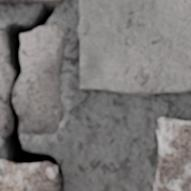brick: (78, 0, 190, 95), (153, 118, 190, 190), (0, 160, 62, 190), (0, 0, 61, 2)
broken_brick: (13, 24, 66, 134), (0, 37, 10, 137)
crack: (0, 2, 63, 188)
